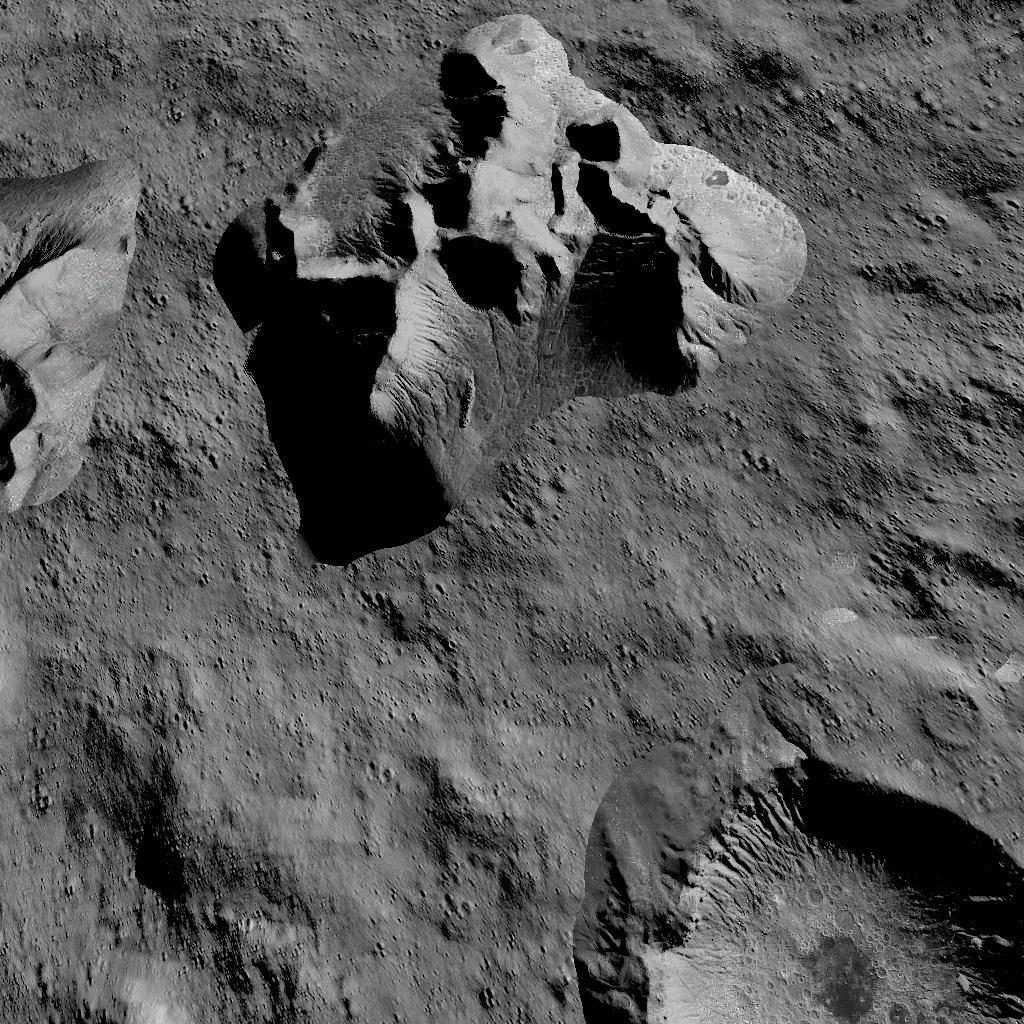Boulders: (203, 12, 809, 564), (0, 152, 139, 506), (72, 989, 236, 1024)
Crater: (573, 730, 1024, 1024), (873, 518, 1024, 664), (118, 812, 224, 920)
Plan surface: (260, 582, 552, 1024), (829, 0, 1024, 468), (12, 582, 244, 792), (575, 569, 849, 708)
